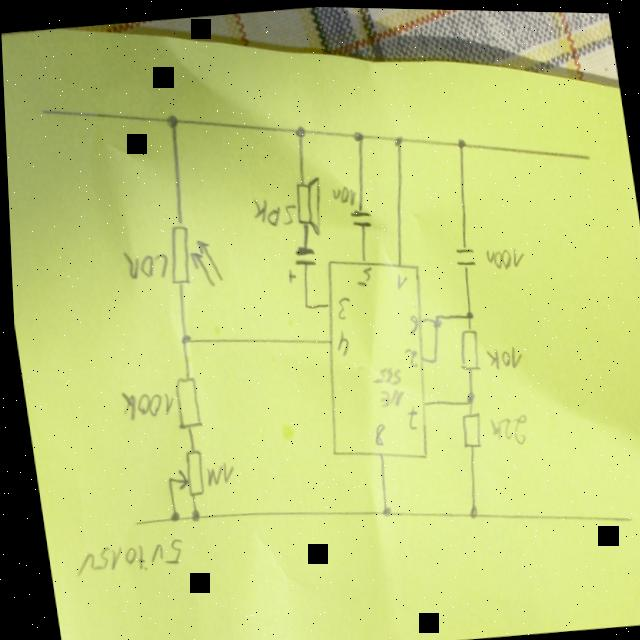capacitor: (279, 242, 316, 282), (345, 204, 371, 229), (451, 241, 475, 268)
junction: (162, 110, 179, 129), (459, 388, 473, 404), (349, 127, 364, 141), (184, 506, 196, 522), (292, 123, 305, 137), (454, 134, 466, 149), (427, 311, 439, 326), (462, 502, 473, 518), (163, 508, 176, 521), (390, 131, 402, 144), (176, 331, 188, 344), (376, 503, 387, 516), (460, 307, 471, 319), (298, 299, 308, 310), (427, 353, 434, 362)
resistor: (160, 216, 221, 290), (157, 445, 204, 500), (167, 373, 200, 429), (451, 323, 480, 372), (453, 407, 481, 448)
terminal: (579, 149, 591, 161), (123, 517, 136, 528), (35, 105, 46, 117), (618, 510, 629, 521)
text: (65, 534, 182, 578), (114, 384, 172, 422), (118, 244, 169, 281), (248, 192, 296, 228), (366, 362, 402, 407), (483, 409, 527, 445), (481, 242, 524, 269), (481, 341, 521, 369), (199, 458, 231, 487), (328, 181, 356, 206), (329, 327, 347, 356), (331, 293, 350, 319), (351, 263, 371, 285), (400, 402, 416, 429), (367, 420, 384, 445), (399, 345, 416, 367), (391, 269, 408, 288), (403, 311, 416, 334)
